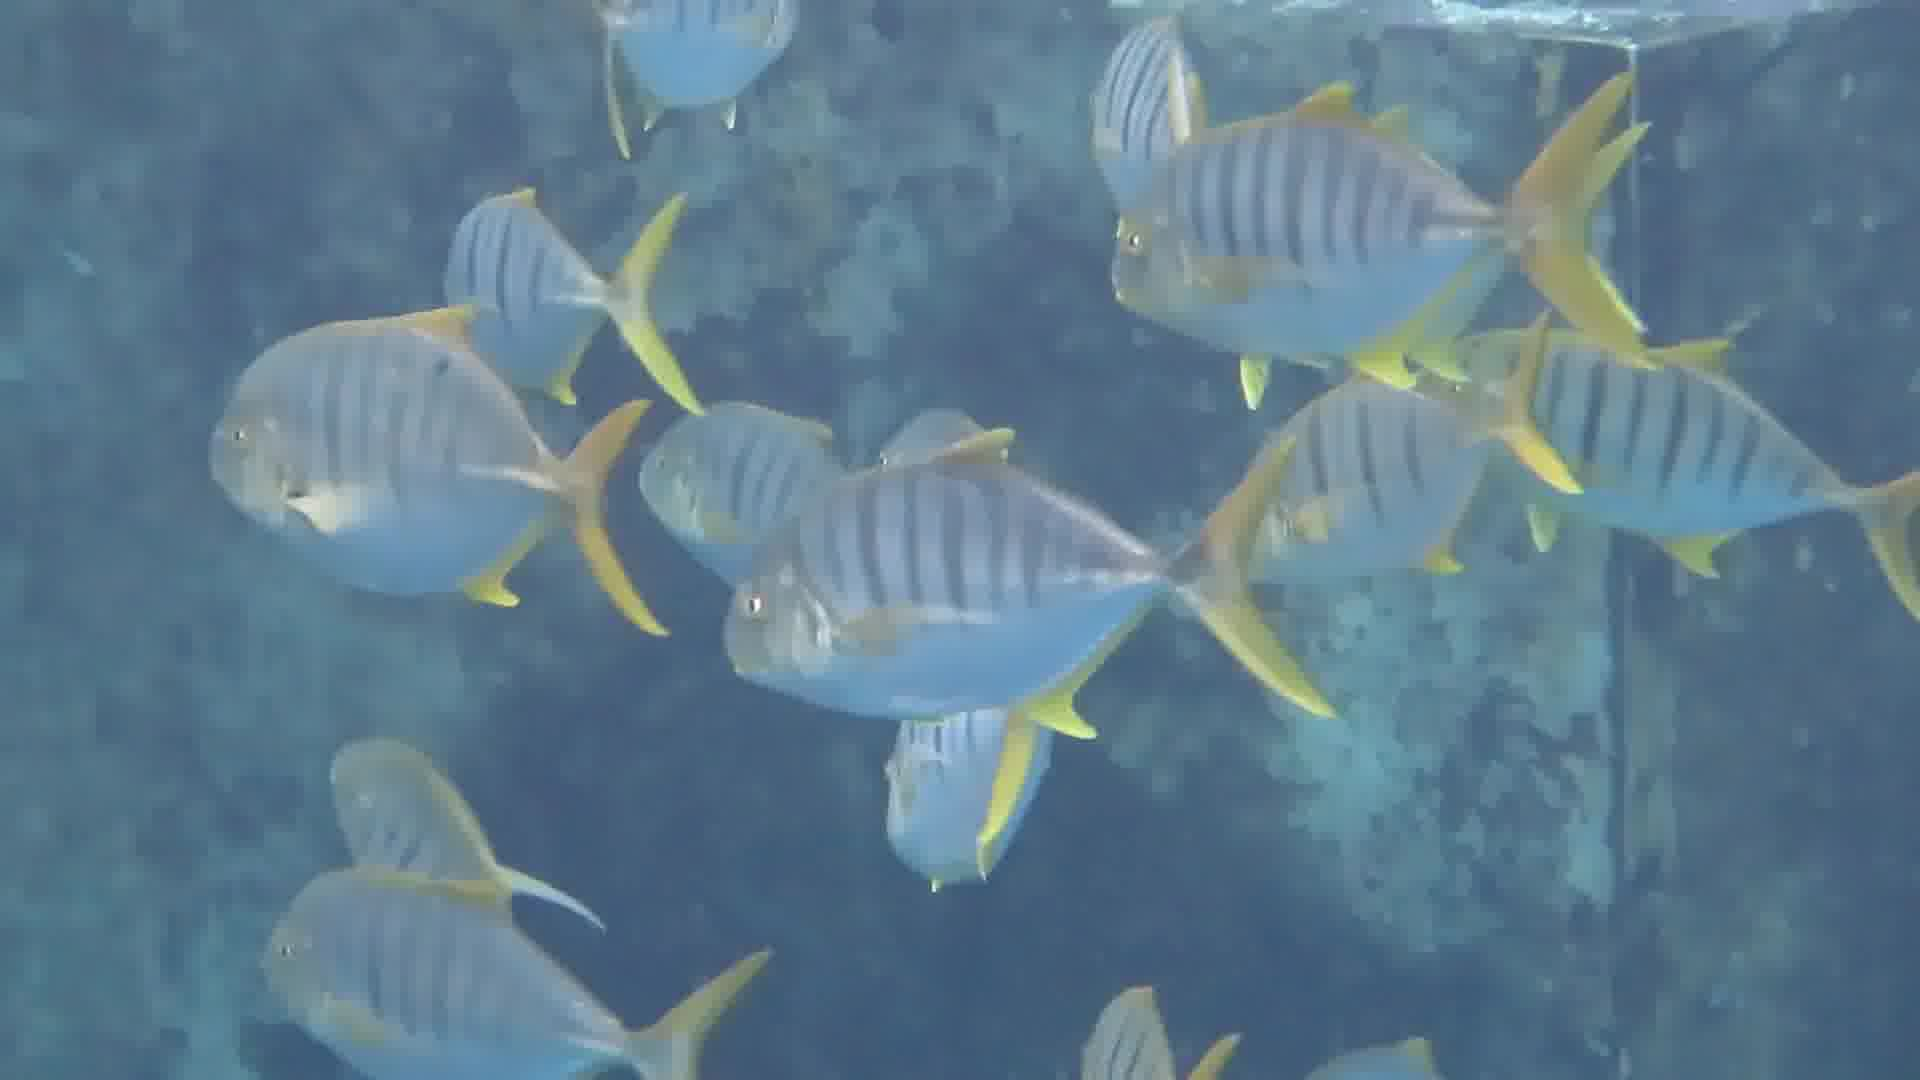Gnathanodon speciosus: (716, 452, 1340, 715), (185, 324, 675, 651), (1098, 107, 1631, 353), (1466, 324, 1907, 611), (241, 847, 779, 1076)
